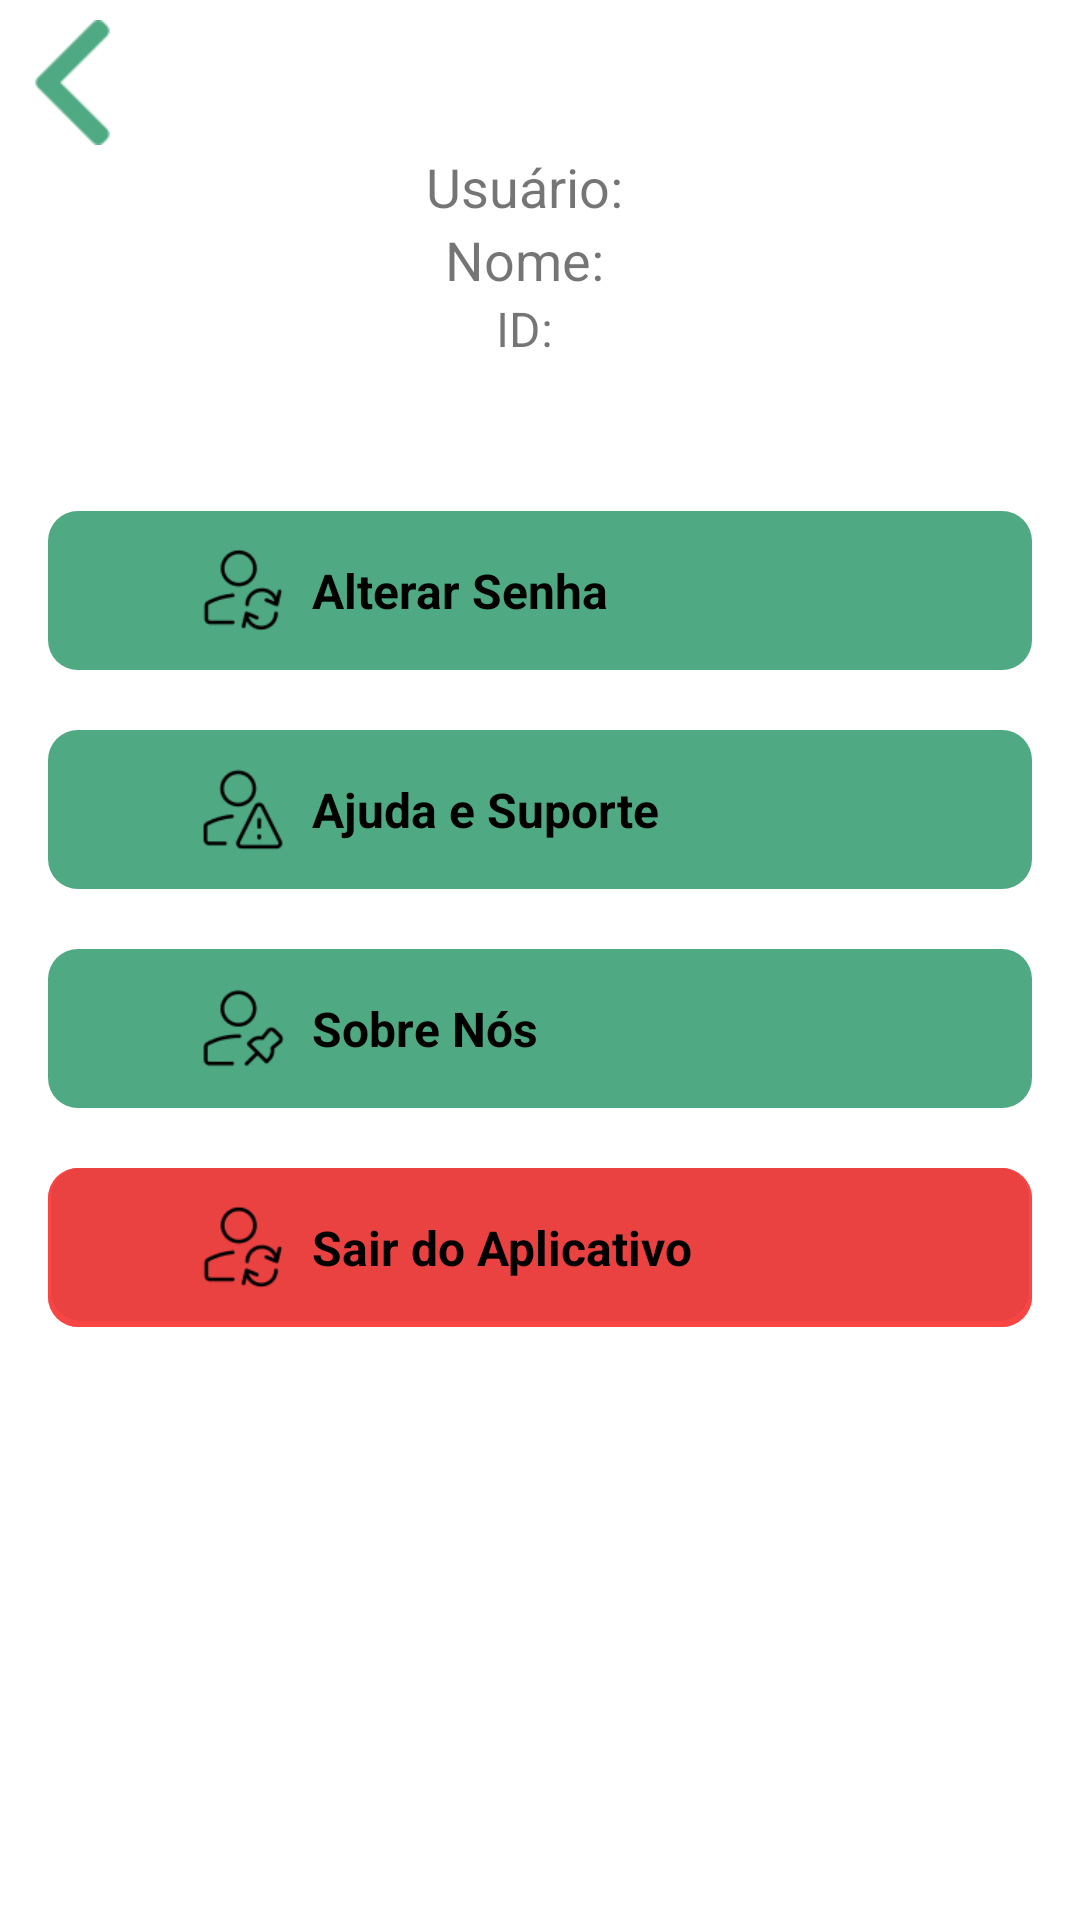

Screen size 1080w x 1920h. Icon name, then its center in pixels as point (x, y):
setavoltar: point (72, 82)
